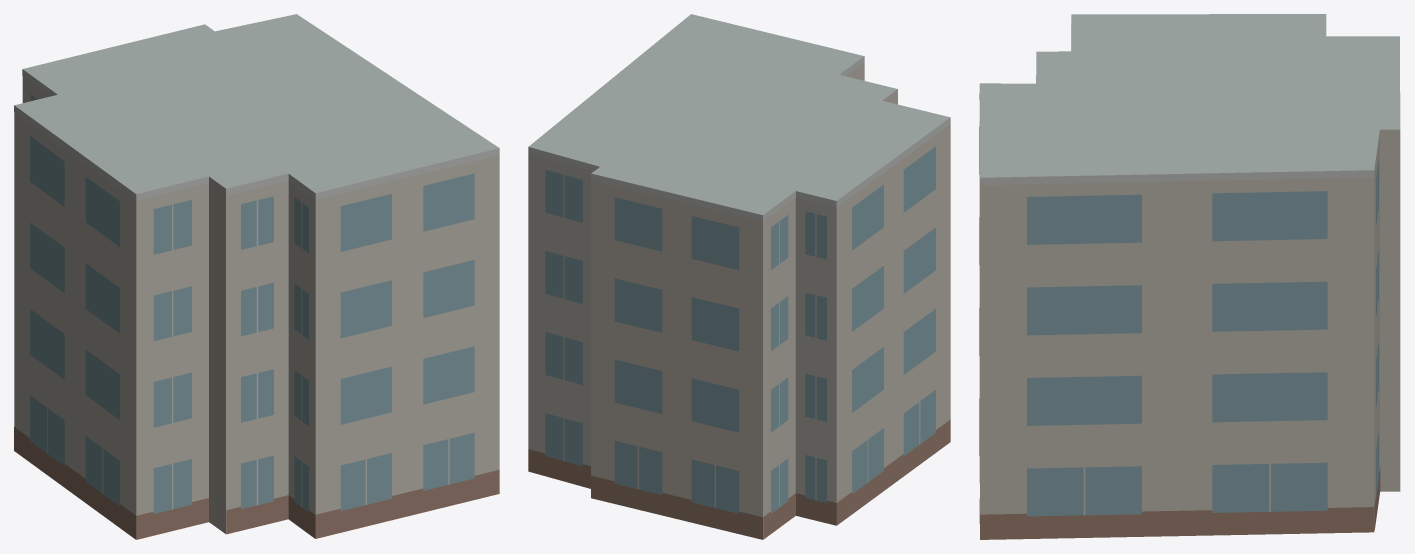
The model's file is survey-upis-32647809.glb.
The picture shows the model from 3 angles, left to right: view 1: azimuth 30°, elevation 25°; view 2: azimuth 150°, elevation 25°; view 3: azimuth 270°, elevation 25°; orthographic projection. The views are drawn at different scales.
Visible parts, largest first — view 1: survey-upis-32647809.tmp; view 2: survey-upis-32647809.tmp; view 3: survey-upis-32647809.tmp.
Boxes of the visible parts, left/top/right/bottom form: survey-upis-32647809.tmp: left=14, top=14, right=499, bottom=539; survey-upis-32647809.tmp: left=528, top=14, right=950, bottom=539; survey-upis-32647809.tmp: left=979, top=14, right=1400, bottom=539.
Size of the model in its own units: 11.84 by 12.2 by 12.86.
